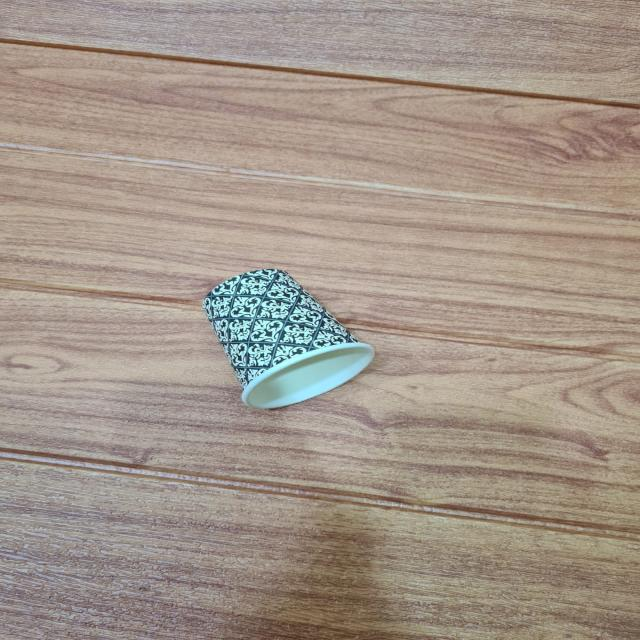cups: (192, 264, 382, 414)
